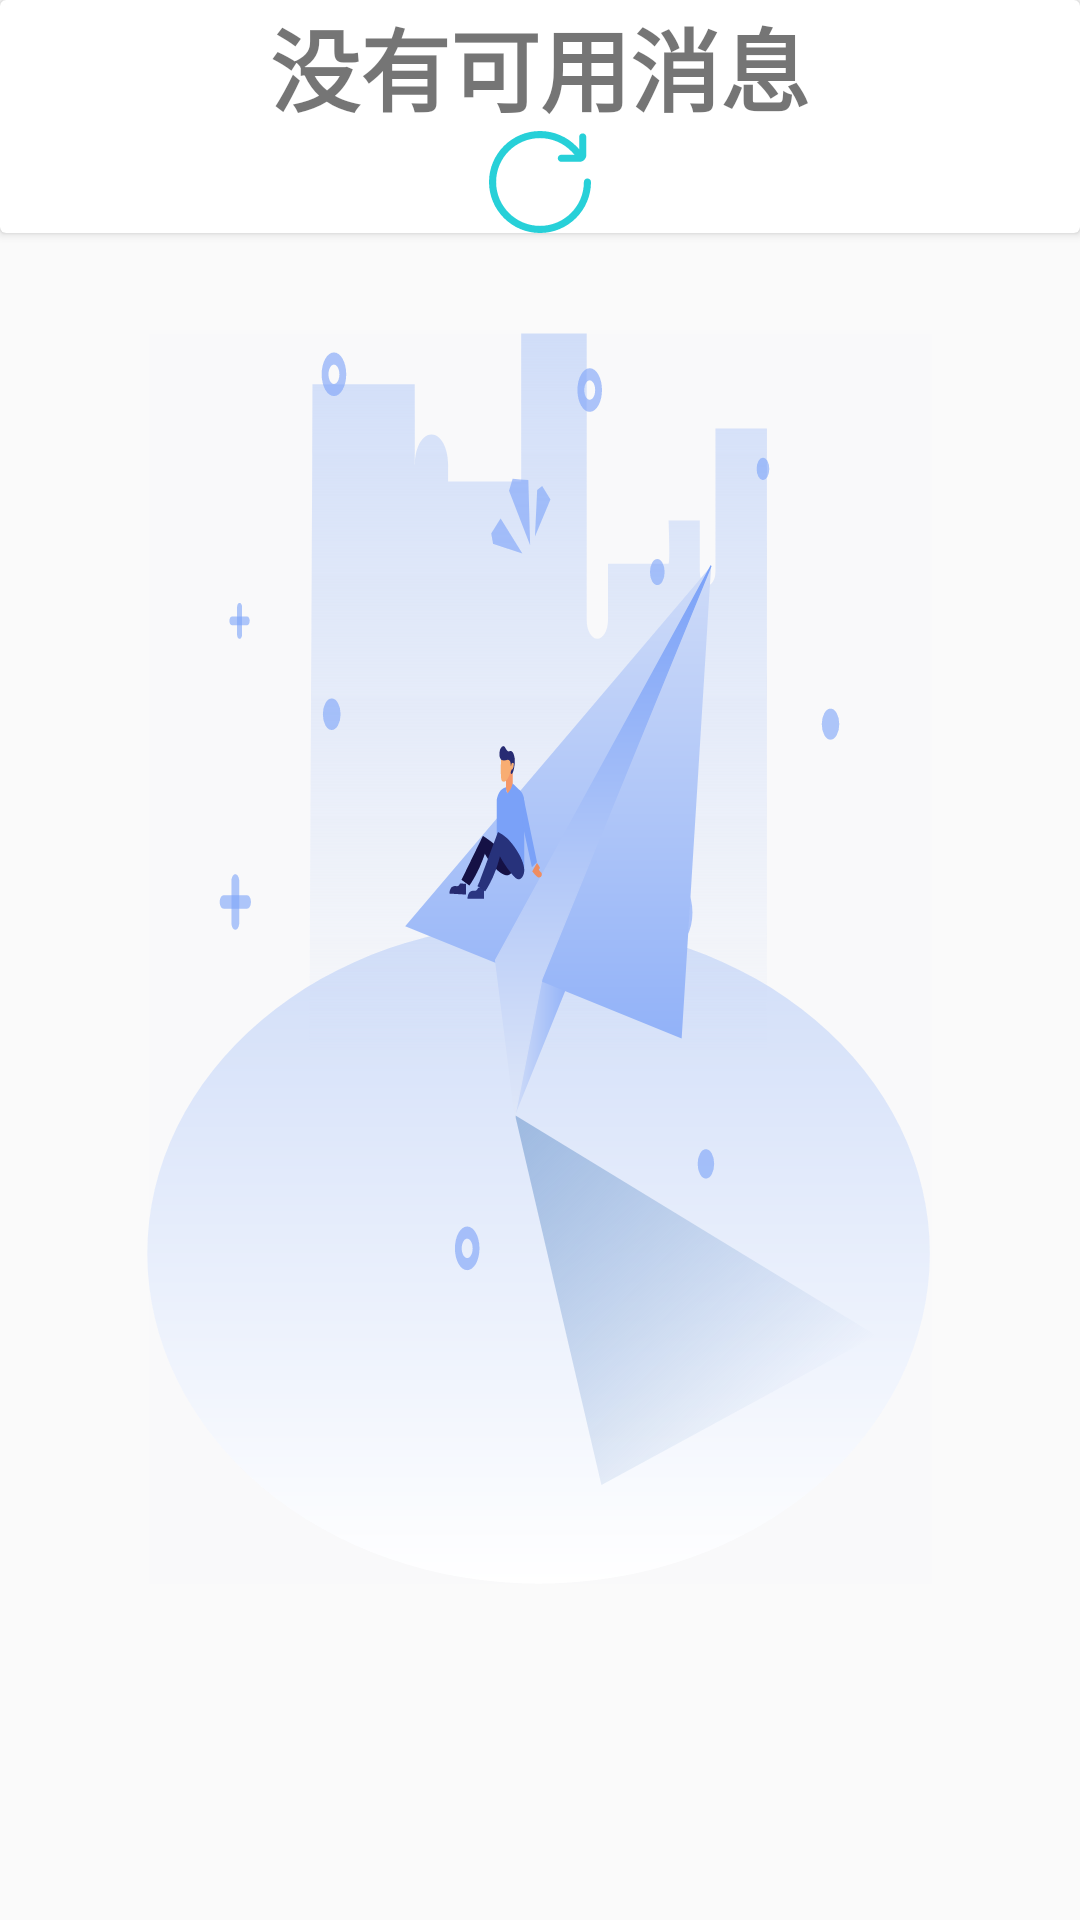

Icon bounding boxes for this 1080px×1920px phone screenshot, format [left=x1, top=y1, right=x2, bottom=y2]:
resh: [left=489, top=131, right=591, bottom=233]
